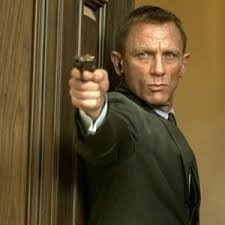pistol: (69, 49, 105, 83)
